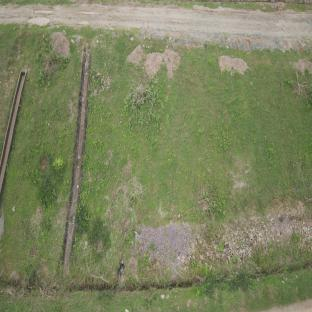rock_toe: (140, 215, 312, 270)
slope_drain: (59, 42, 92, 268), (0, 70, 27, 205)
toe_drain: (0, 259, 312, 299)
vegetation: (122, 78, 168, 139), (30, 144, 65, 214), (83, 201, 114, 263), (15, 270, 61, 300), (195, 272, 257, 293), (199, 185, 225, 215)
